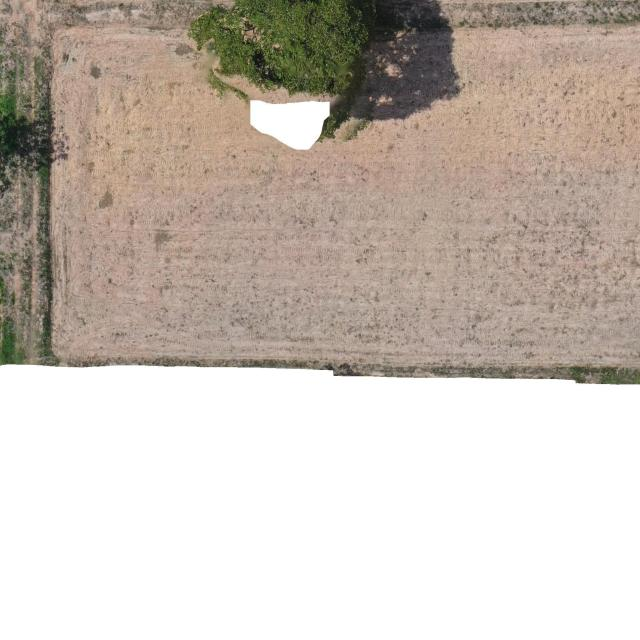Tree: (187, 0, 368, 94)
